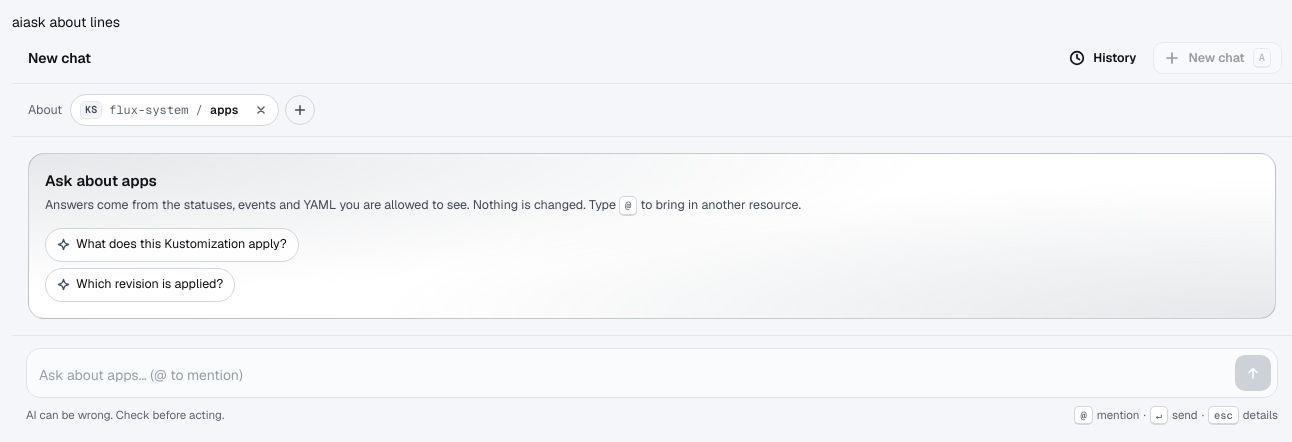
Test: Ask AI chats › history › renames a chat inline
Click the button "History" at (1103, 58), box [1058, 42, 1148, 74]
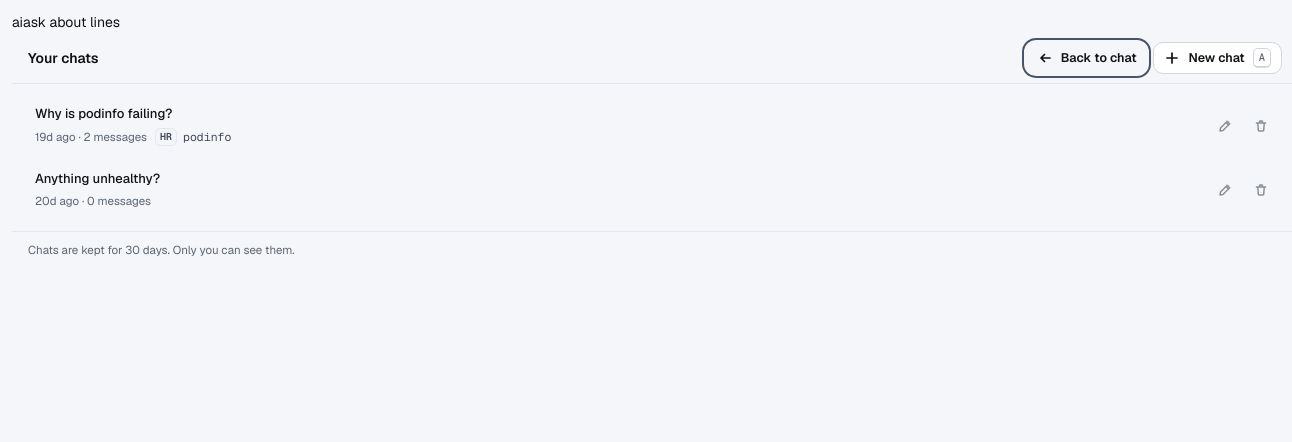
Click the button named "Rename Anything unhealthy?" at (1225, 190), box [1209, 174, 1241, 206]
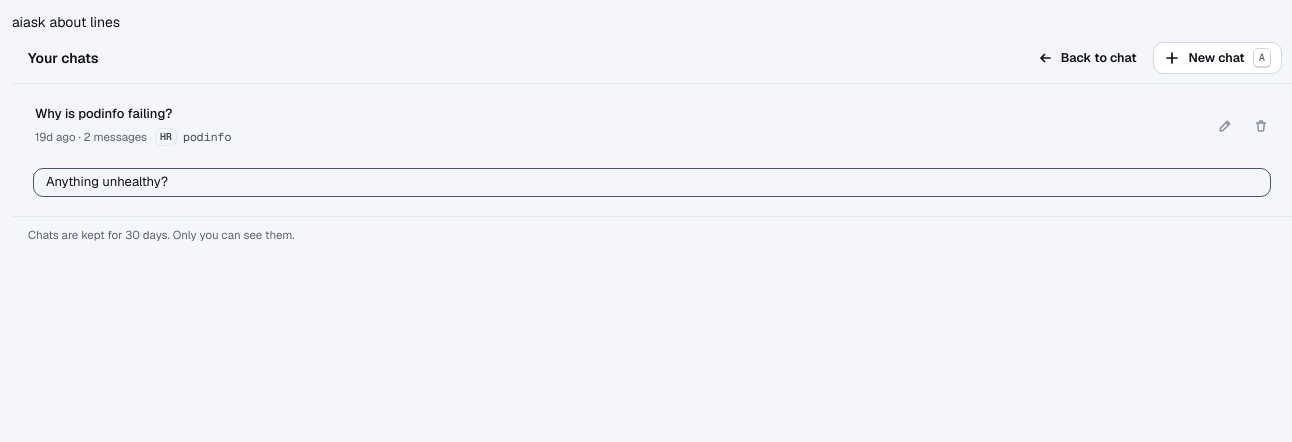
Replace the text in the field named "Chat title" with "Prod health" at (652, 182), box [33, 168, 1271, 197]
Then press Enter
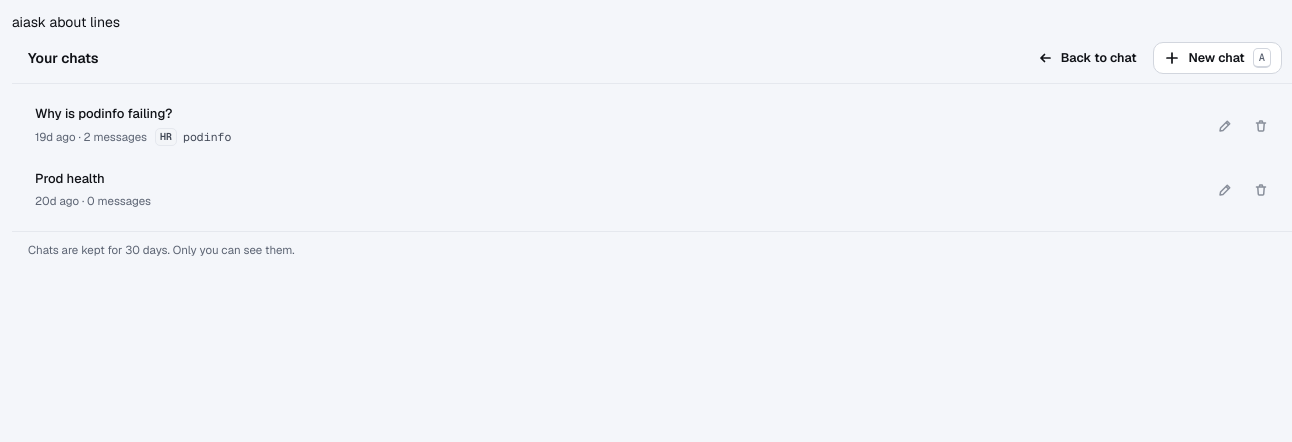
Now the text "Prod health" is shown, box [35, 170, 105, 187]
